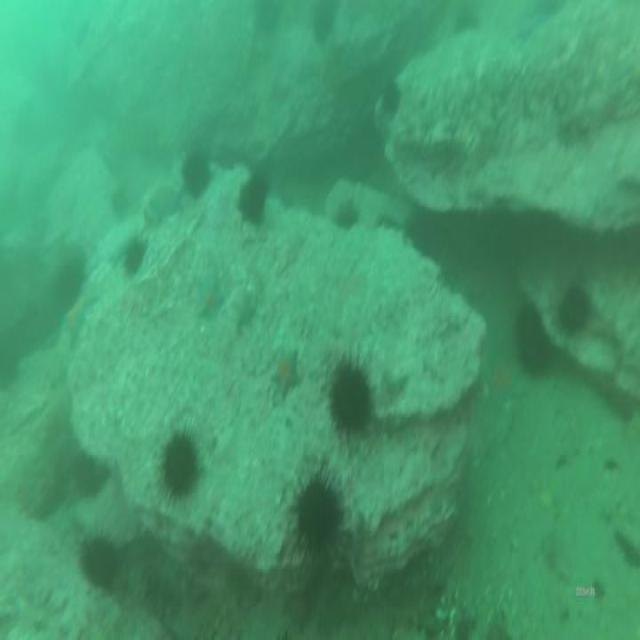echinus: (298, 474, 340, 548), (332, 364, 370, 432), (517, 305, 552, 373), (162, 436, 195, 495), (83, 537, 119, 585), (559, 284, 589, 330), (237, 174, 265, 221), (180, 155, 212, 196), (313, 2, 339, 42), (332, 198, 356, 226), (126, 242, 145, 270), (386, 74, 400, 111)
starfish: (67, 289, 95, 337), (276, 354, 302, 397), (198, 281, 224, 319)
